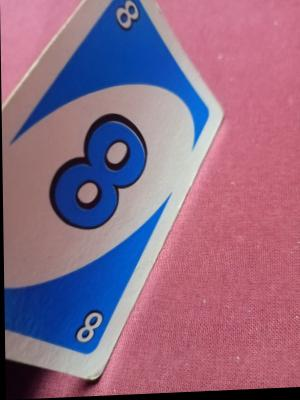blue: (8, 50, 145, 339)
num_8: (67, 309, 106, 346), (106, 0, 146, 36)
